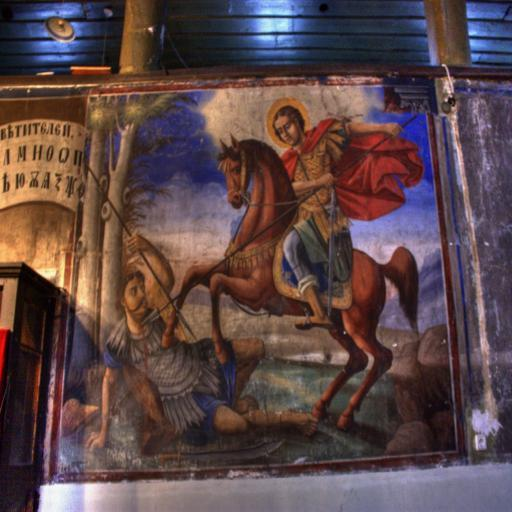horse: (160, 127, 422, 434)
